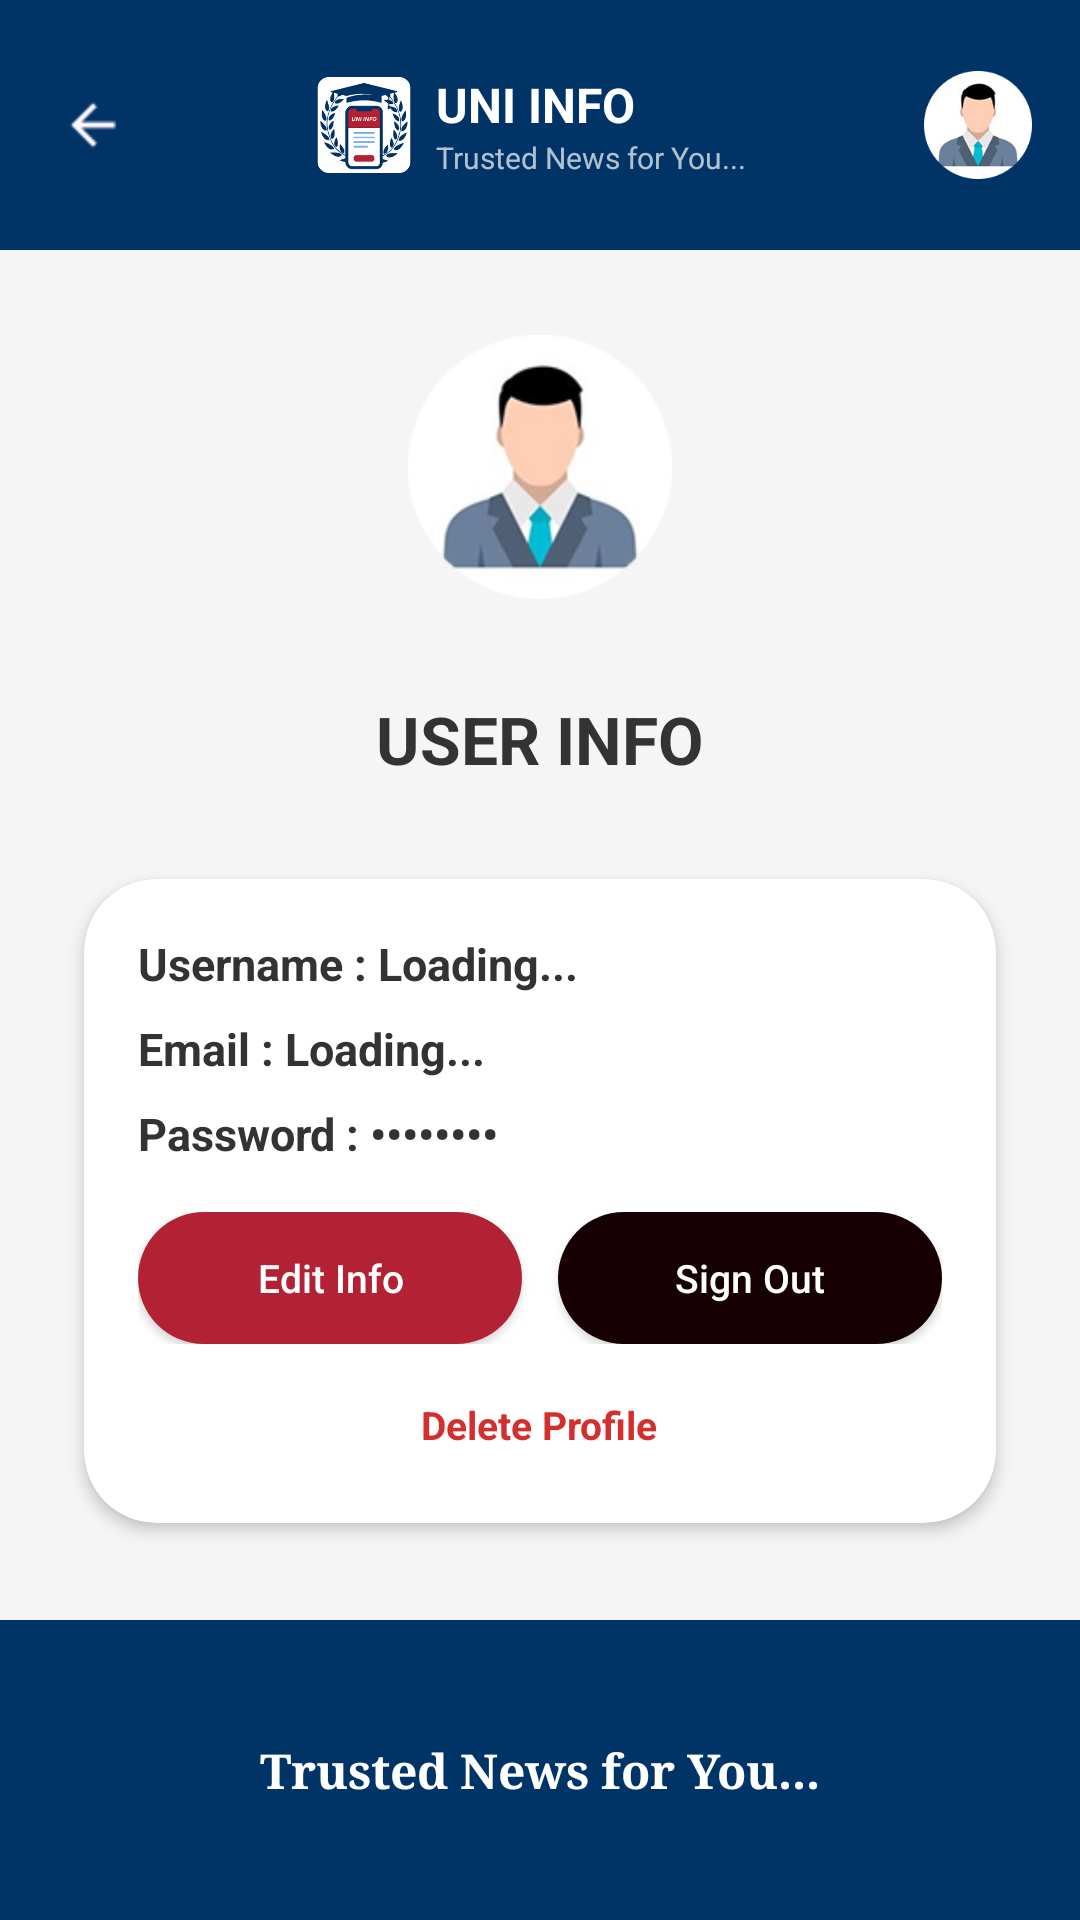

Named icons in this screenshot (1080px×1920px) and their centers, (x,y):
arrow back: (93,125)
person: (978,125), (540,467)
